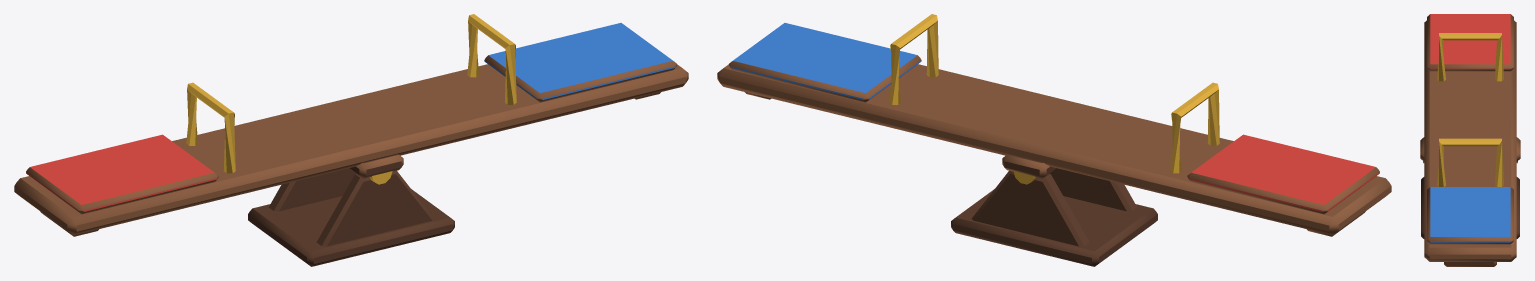
The model's file is toy_seesaw.glb.
3 views of the same model, side by side, from view 1: azimuth 30°, elevation 25°; view 2: azimuth 150°, elevation 25°; view 3: azimuth 270°, elevation 25° (orthographic). The views are drawn at different scales.
Parts seen in each view (by area): view 1: Plank, Base; view 2: Plank, Base; view 3: Plank, Base.
Boxes of the visible parts, x1,y1,x2,y2 form: Plank: (14,14,688,236); Base: (248,168,454,266); Plank: (717,14,1391,236); Base: (951,168,1157,266); Plank: (1420,14,1520,266); Base: (1421,161,1519,238).
Bounding box in the file's own units: 4.2 × 1.06 × 0.76.
